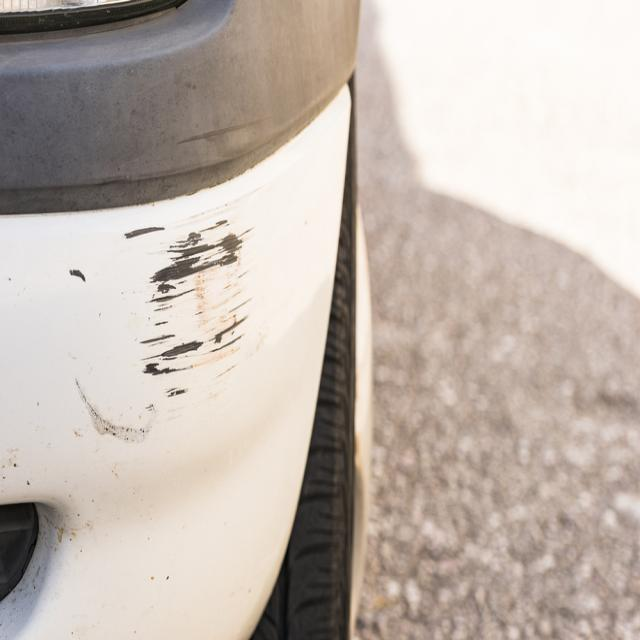scratch: (68, 204, 257, 449)
